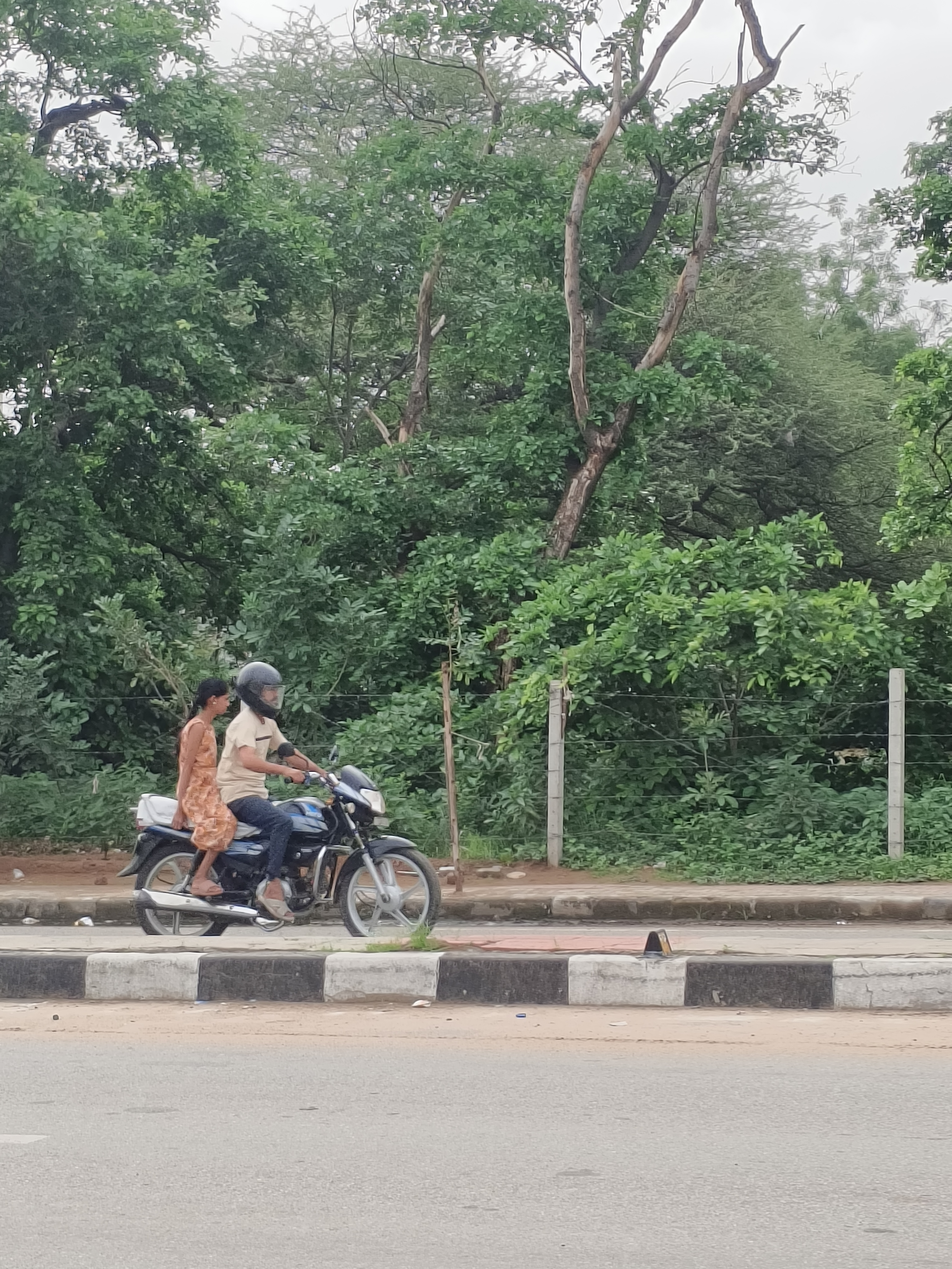BikeWithRider: (106, 639, 456, 947)
Helmet: (232, 658, 296, 727)
NoHelmet: (183, 674, 235, 724)
